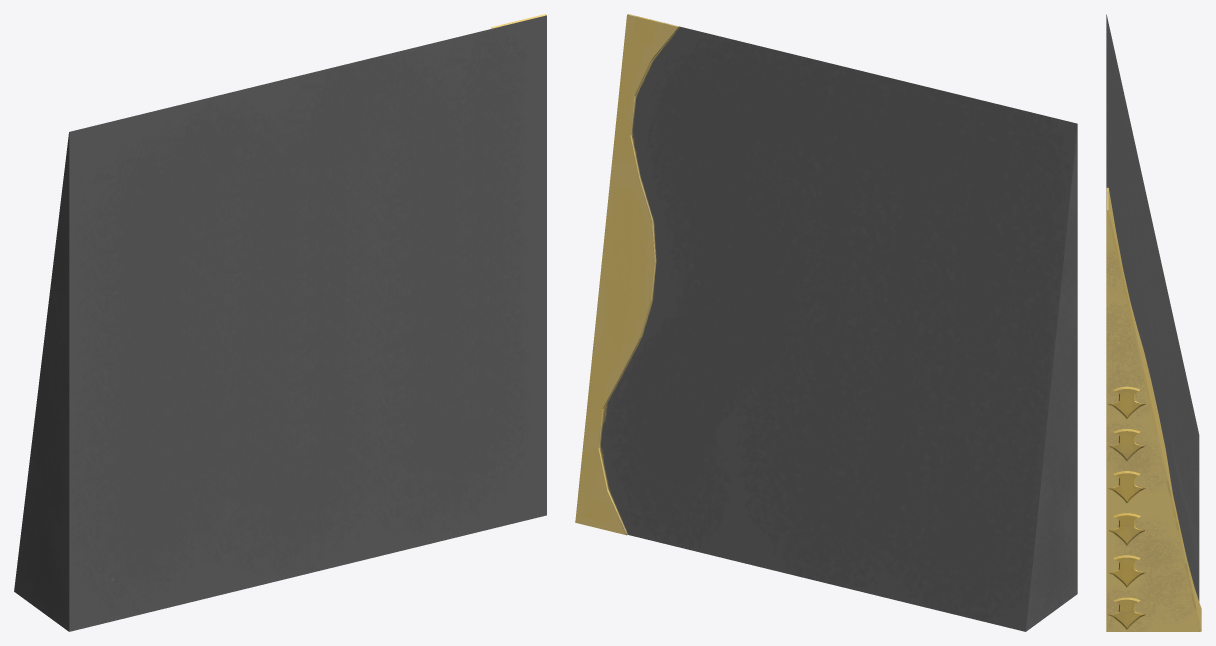
The model's file is Slope_02.fbx.
3 renders of one model, left to right at view 1: azimuth 30°, elevation 25°; view 2: azimuth 150°, elevation 25°; view 3: azimuth 270°, elevation 25°, orthographic. The views are drawn at different scales.
Visible parts, largest first — view 1: Slope_02; view 2: Slope_02; view 3: Slope_02.
Part boxes in pixels (bbox=[...]): Slope_02: bbox=[14, 14, 546, 631]; Slope_02: bbox=[575, 14, 1077, 631]; Slope_02: bbox=[1106, 14, 1201, 631].
Bounding box in the file's own units: 5.01 × 5 × 1.02.
Materials: 1 (1 with a texture image).
